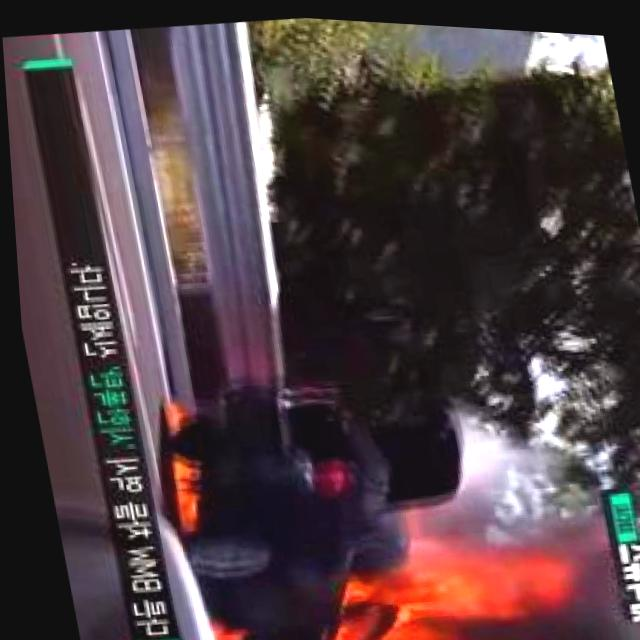helmet: (324, 534, 529, 640), (198, 600, 258, 640)
no_helmet: (512, 497, 624, 640)
